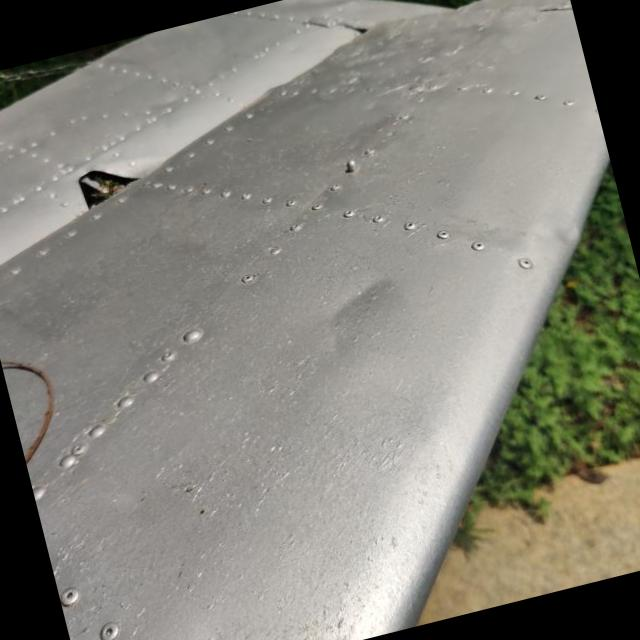Dent: (312, 256, 421, 365), (498, 179, 592, 278)
